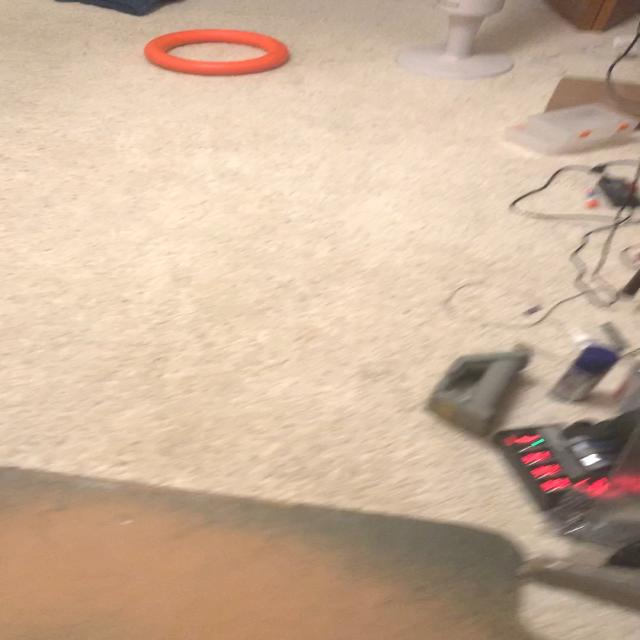notes: (145, 31, 291, 77)
